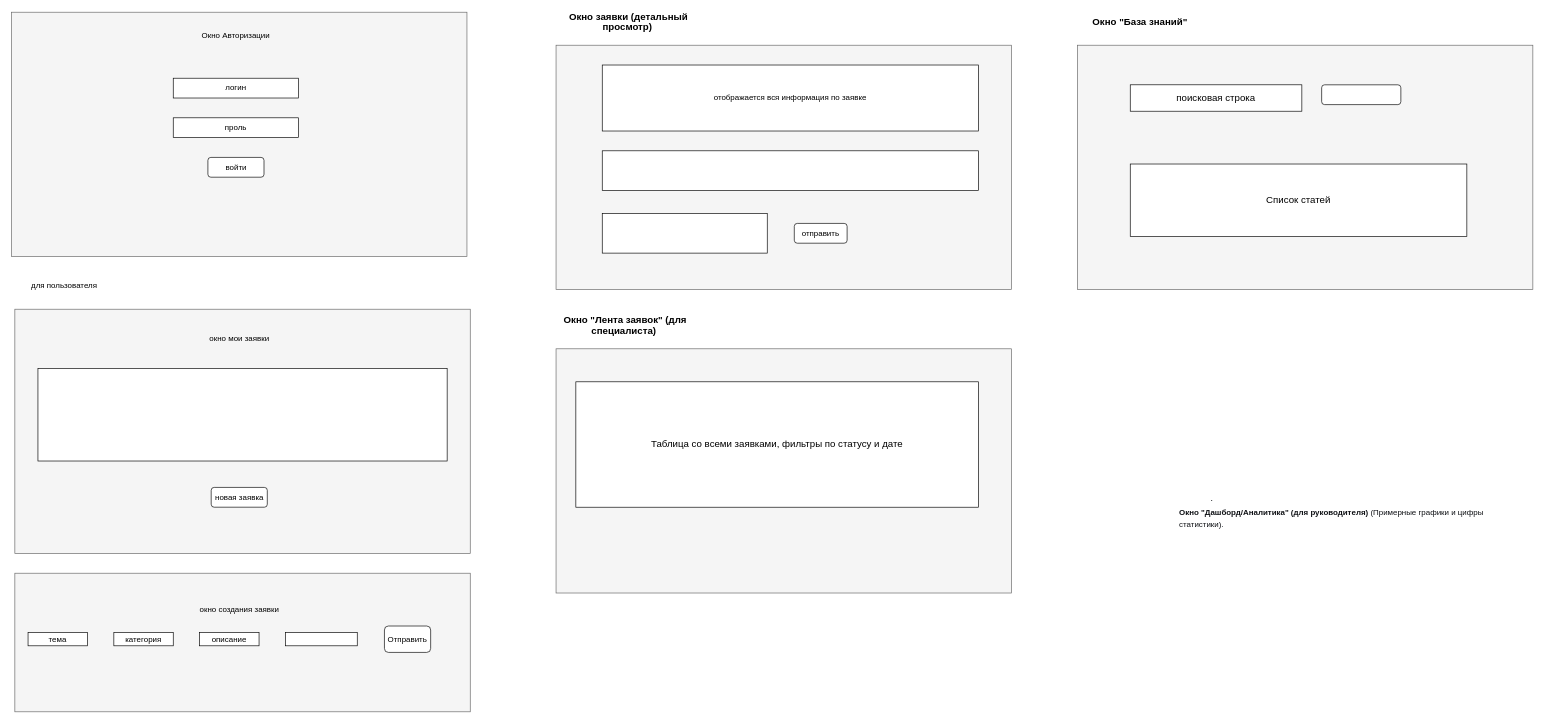
The diagram is 1544 pixels wide and 723 high, and some of its shapes have lost their labels. The centre of each missing label's shape, as x and y in pixels:
лента комментариев: the point at 790,170
поиск: the point at 1361,94
поля для нового коментария: the point at 684,233
прикрепить файл: the point at 321,639
список созданных заявок со статусами: the point at 242,414
